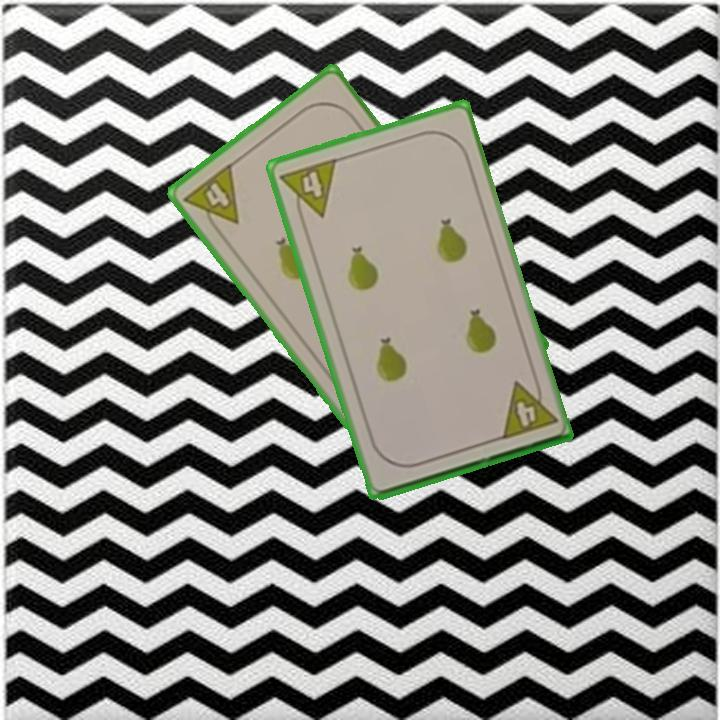4p: (179, 159, 242, 239), (276, 154, 340, 226), (497, 373, 560, 443)
